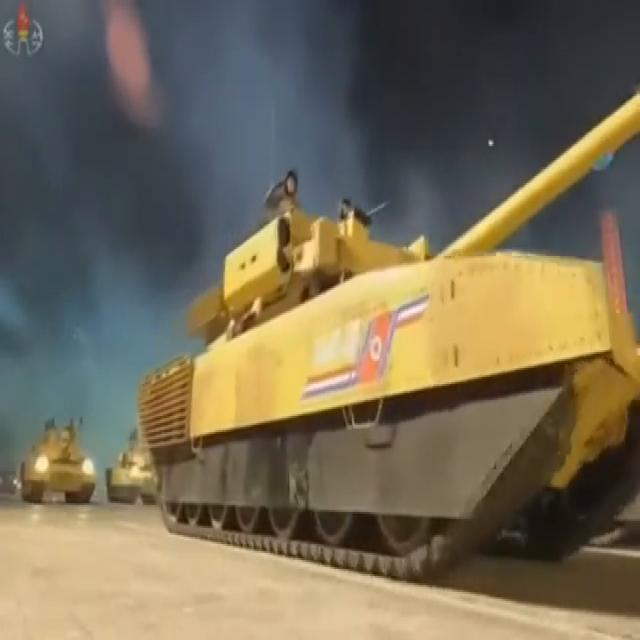north tank: (127, 86, 640, 603), (13, 385, 99, 523), (104, 391, 158, 520)
